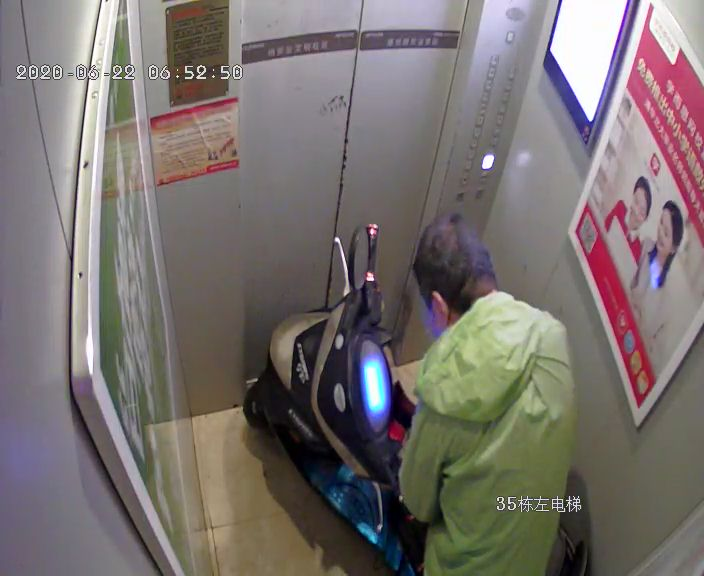Electric-bicycle: (243, 220, 593, 573)
